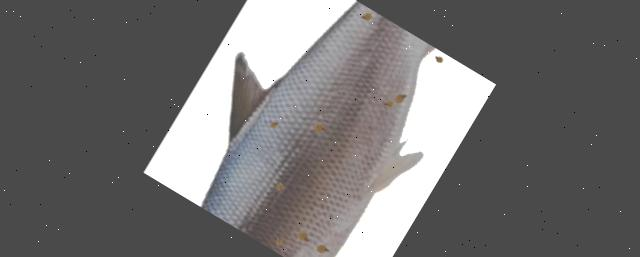Parasitic Disease: (202, 1, 434, 257), (202, 1, 434, 257)
